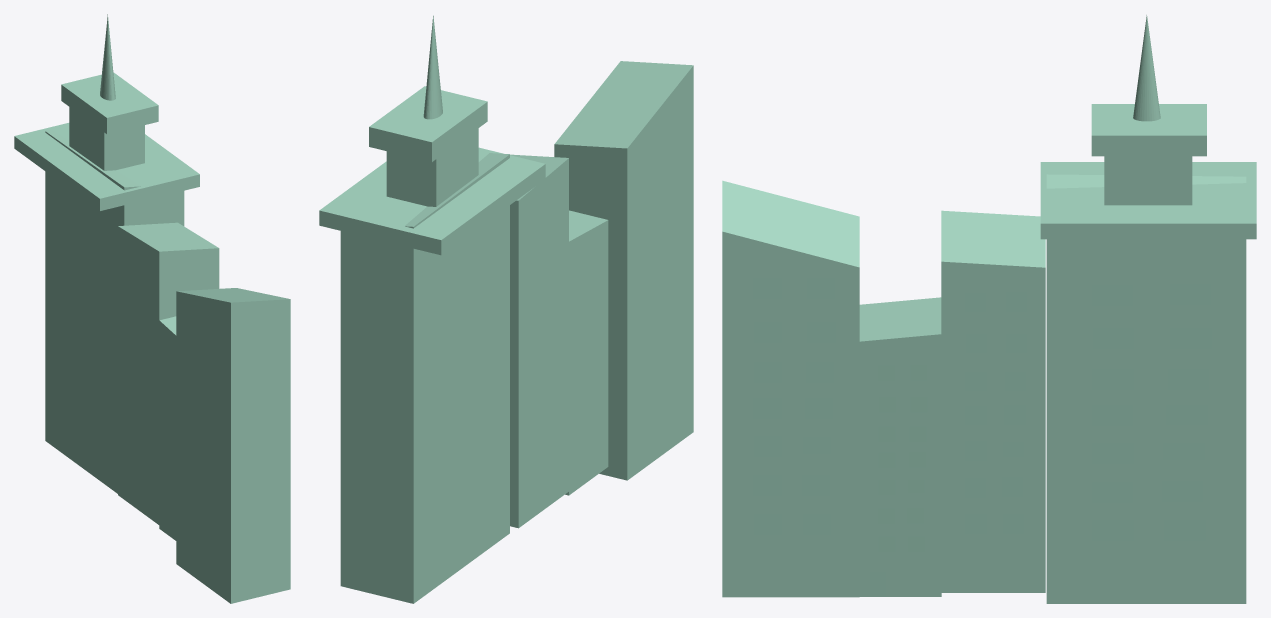
File: edificiosfondocolorplano.fbx
The picture shows the model from 3 angles, left to right: view 1: azimuth 30°, elevation 25°; view 2: azimuth 150°, elevation 25°; view 3: azimuth 270°, elevation 25°; orthographic projection. The views are drawn at different scales.
Visible parts, largest first — view 1: Cube.010, Cube.007, Cube.009, Cube.006; view 2: Cube.010, Cube.007, Cube.009, Cube.006; view 3: Cube.010, Cube.007, Cube.009, Cube.006.
Part boxes in pixels (bbox=[...]): Cube.010: bbox=[14, 14, 199, 493]; Cube.007: bbox=[176, 288, 290, 603]; Cube.009: bbox=[118, 222, 219, 524]; Cube.006: bbox=[159, 316, 176, 540]; Cube.010: bbox=[319, 15, 545, 603]; Cube.007: bbox=[554, 61, 693, 480]; Cube.009: bbox=[510, 154, 568, 528]; Cube.006: bbox=[565, 210, 608, 495]; Cube.010: bbox=[1040, 15, 1256, 603]; Cube.007: bbox=[722, 180, 859, 597]; Cube.009: bbox=[941, 210, 1045, 592]; Cube.006: bbox=[859, 297, 941, 596].
Bounding box in the file's own units: 16.86 × 73.24 × 61.75.
